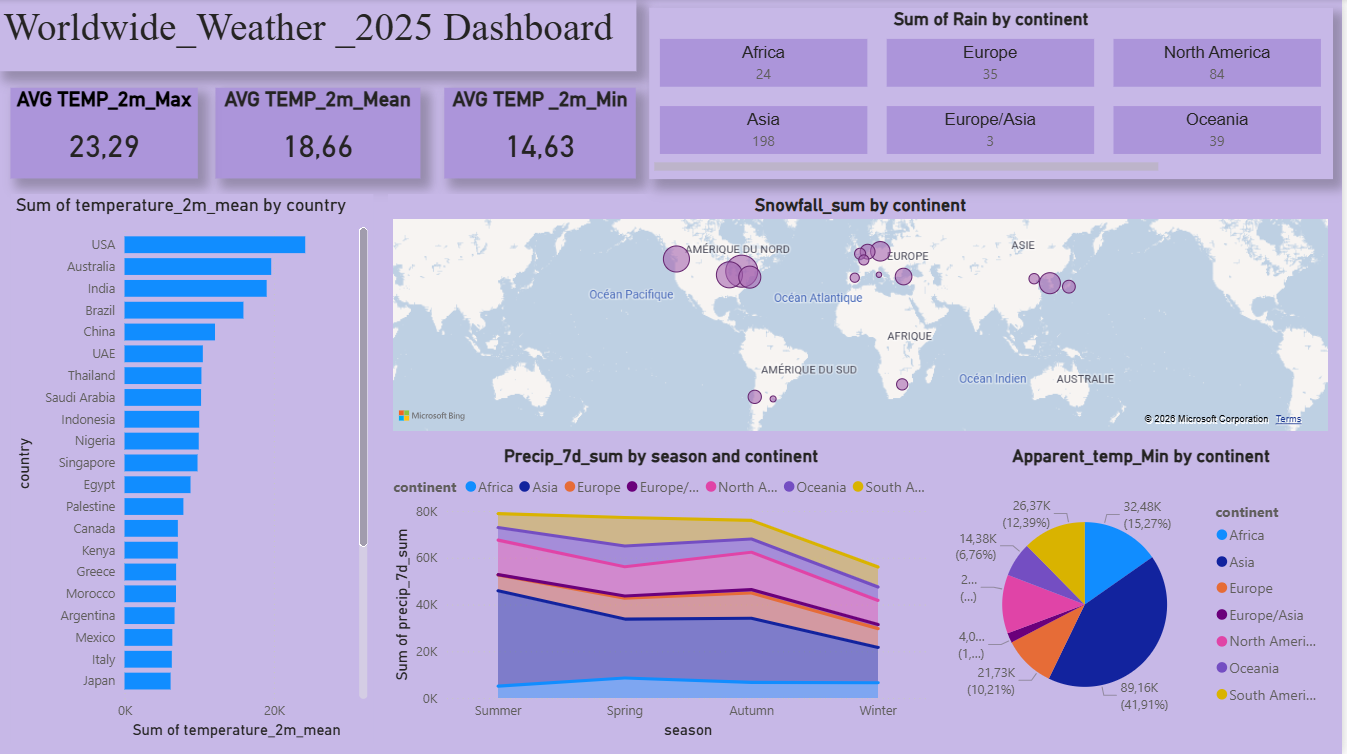

The page's visual inventory and layout, read from the dashboard file:
{"tool":"powerbi","page":{"name":"Page 1","canvas":[1280,720],"ordinal":0},"visuals":[{"type":"textbox","box":[0,0,607.9,68.6],"z":0},{"type":"card","title":"AVG TEMP_2m_Mean","fields":{"Values":["Avg(worldwide_weather_2025.temperature_2m_mean)"]},"box":[207.2,85.1,194.9,86.4],"z":1000},{"type":"card","title":"AVG TEMP_2m_Max","fields":{"Values":["Avg(worldwide_weather_2025.temperature_2m_max)"]},"box":[12.3,85.1,178.4,86.4],"z":2000},{"type":"card","title":"AVG TEMP _2m_Min","fields":{"Values":["Avg(worldwide_weather_2025.temperature_2m_min)"]},"box":[425.4,85.1,182.5,86.4],"z":3000},{"type":"pieChart","title":"Apparent_temp_Min by continent","fields":{"Y":["Sum(worldwide_weather_2025.apparent_temperature_min)"],"Series":["worldwide_weather_2025.continent"]},"box":[906,425,365.5,284.5],"z":4000},{"type":"barChart","title":"Sum of Temp_2m_mean by country","fields":{"Category":["worldwide_weather_2025.country"],"Y":["Sum(worldwide_weather_2025.temperature_2m_mean)"]},"box":[11.9,185.7,345.2,523.8],"z":5000},{"type":"stackedAreaChart","title":"Precip_7d_sum by season and continent","fields":{"Y":["Sum(worldwide_weather_2025.precip_7d_sum)"],"Category":["worldwide_weather_2025.season"],"Series":["worldwide_weather_2025.continent"]},"box":[371.4,425,520.2,284.5],"z":6000},{"type":"map","title":"Snowfall_sum by continent","fields":{"Y":["worldwide_weather_2025.latitude"],"X":["worldwide_weather_2025.longitude"],"Size":["Sum(worldwide_weather_2025.snowfall_sum)"]},"box":[371.4,185.7,900,231],"z":7000},{"type":"advancedSlicerVisual","title":"Sum of Rain by continent","fields":{"Label":["Sum(worldwide_weather_2025.heavy_rain_flag)"],"Values":["worldwide_weather_2025.continent"]},"box":[632.1,8.3,639.3,163.1],"z":8000}]}

Visuals, with their boxes in screenshot pixels (x1, y1, x2, y2), scaled from the page's 1280x720 canvas onto the 1347x754 screenshot:
textbox: BBox(0, 0, 640, 72)
"AVG TEMP_2m_Mean" card: BBox(218, 89, 423, 180)
"AVG TEMP_2m_Max" card: BBox(13, 89, 201, 180)
"AVG TEMP _2m_Min" card: BBox(448, 89, 640, 180)
"Apparent_temp_Min by continent" pieChart: BBox(953, 445, 1338, 743)
"Sum of Temp_2m_mean by country" barChart: BBox(13, 194, 376, 743)
"Precip_7d_sum by season and continent" stackedAreaChart: BBox(391, 445, 938, 743)
"Snowfall_sum by continent" map: BBox(391, 194, 1338, 436)
"Sum of Rain by continent" advancedSlicerVisual: BBox(665, 9, 1338, 179)
